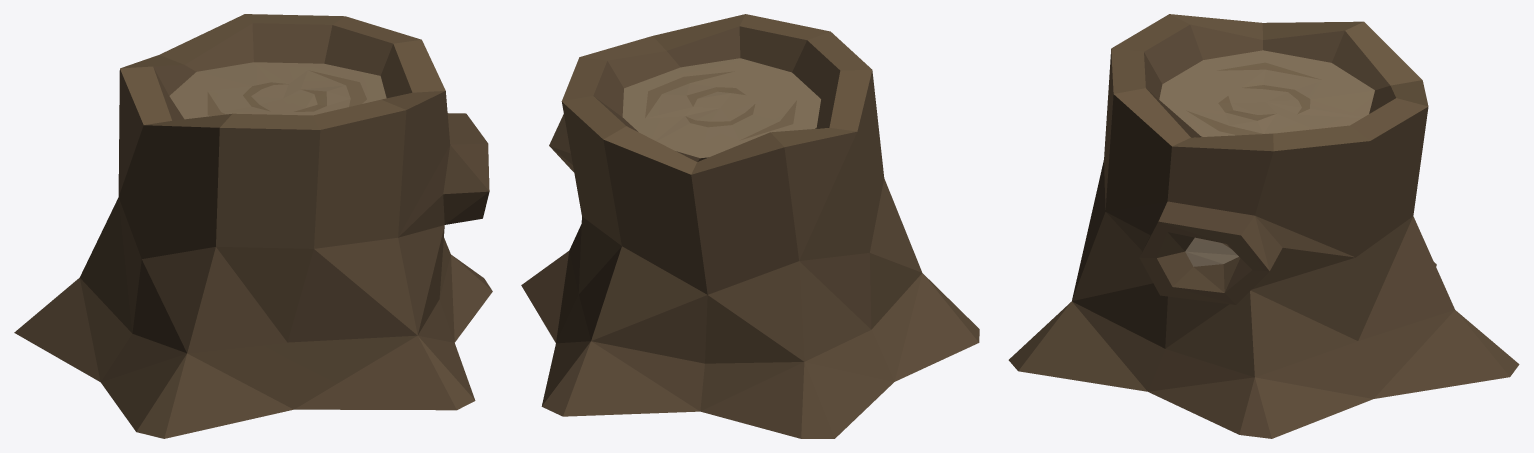
File: SM_Generic_TreeStump_01.glb
3 renders of one model, left to right at view 1: azimuth 30°, elevation 25°; view 2: azimuth 150°, elevation 25°; view 3: azimuth 270°, elevation 25°, orthographic. The views are drawn at different scales.
Parts seen in each view (by area): view 1: SM_Generic_TreeStump_01; view 2: SM_Generic_TreeStump_01; view 3: SM_Generic_TreeStump_01.
Part boxes in pixels (box(x1,y1,x2,y2)): SM_Generic_TreeStump_01: box(14, 14, 492, 438); SM_Generic_TreeStump_01: box(521, 14, 979, 438); SM_Generic_TreeStump_01: box(1008, 14, 1519, 438).
Size of the model in its own units: 0.7776 by 0.4976 by 0.821.
Materials: 1 (1 with a texture image).
